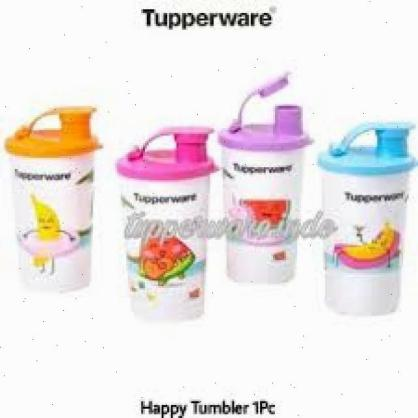bottle: (215, 65, 313, 291), (118, 109, 216, 328), (320, 95, 413, 319), (8, 89, 100, 304)
